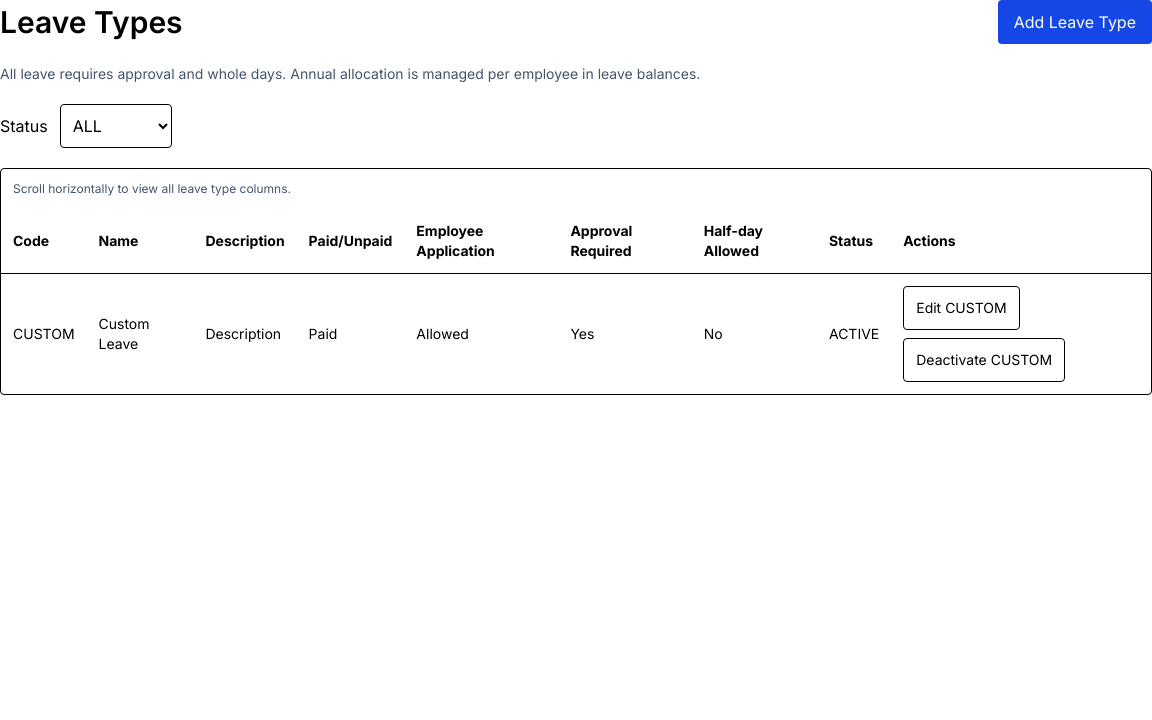
Test: Phase 12 leave types › creates normalized fields and fixed policies, invalidating lists/previews
The width and height of the screenshot is (1152, 720).
Click the button "Add Leave Type".
click(1075, 22)  # box [998,0,1151,44]
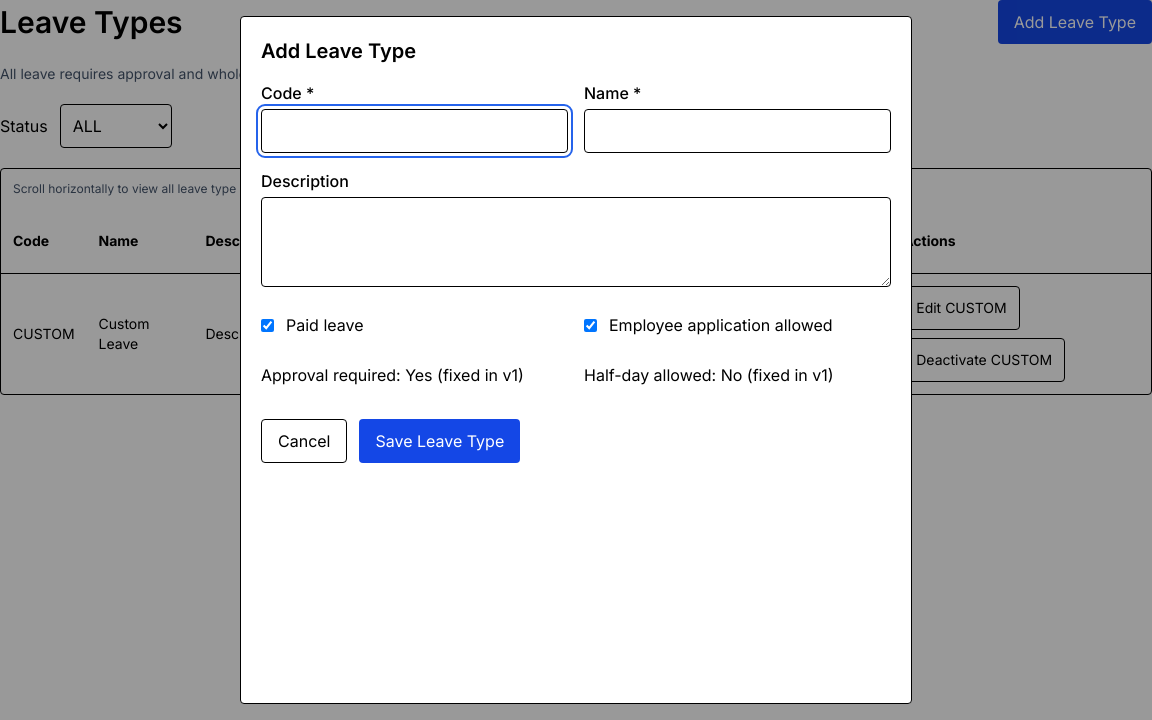
Type " new_12 " into the field labelled "Code *".
click(414, 131); type(" new_12 ")  # box [261,109,568,153]
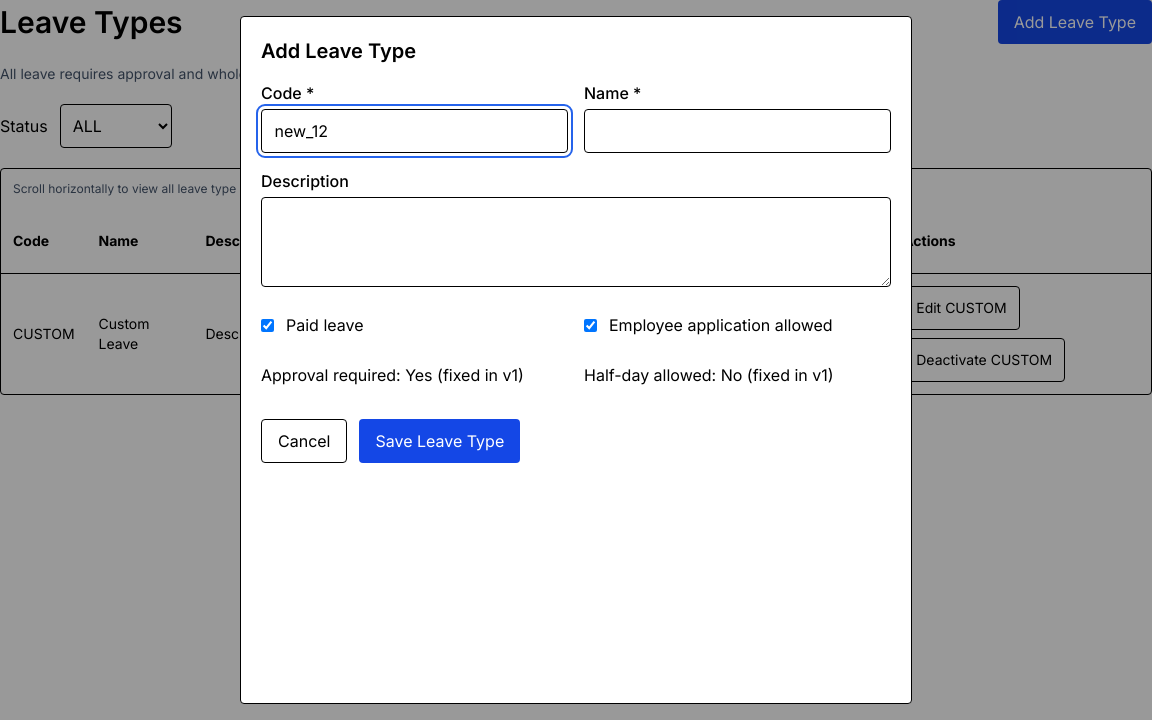
Type " New Type " into the field labelled "Name *".
click(738, 131); type(" New Type ")  # box [584,109,891,153]
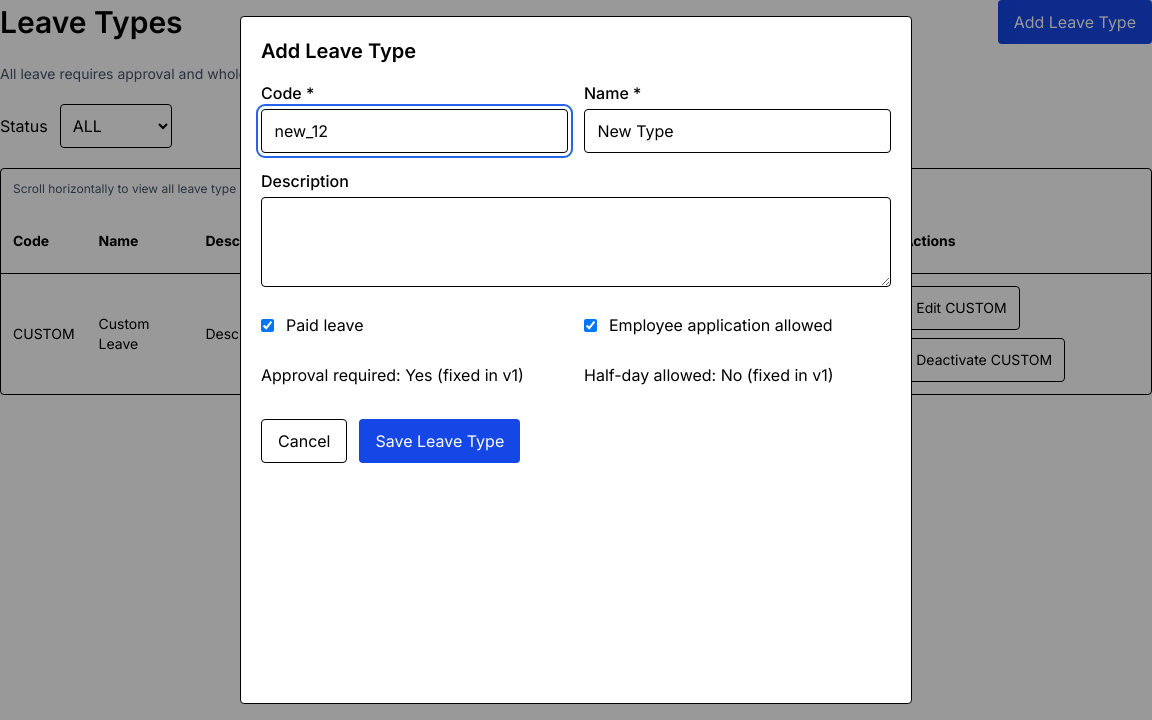
Click the switch labelled "Paid leave".
click(268, 325)  # box [261,318,274,332]
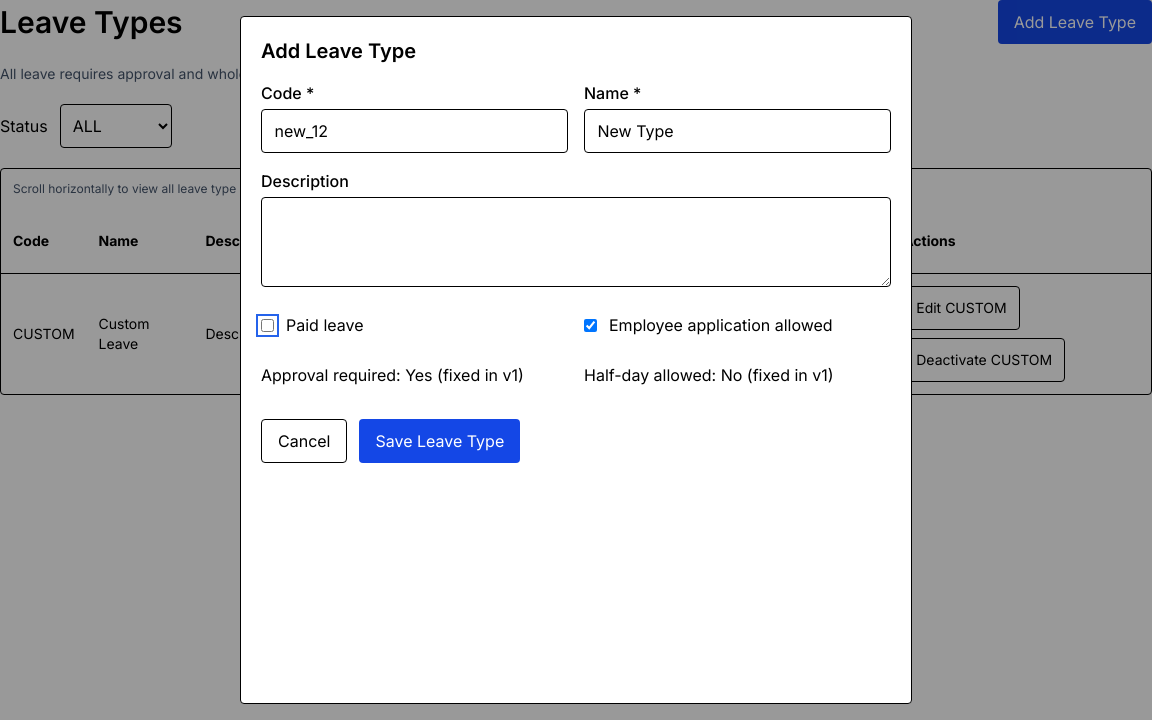
Click the switch labelled "Employee application allowed".
click(590, 325)  # box [584,318,597,332]
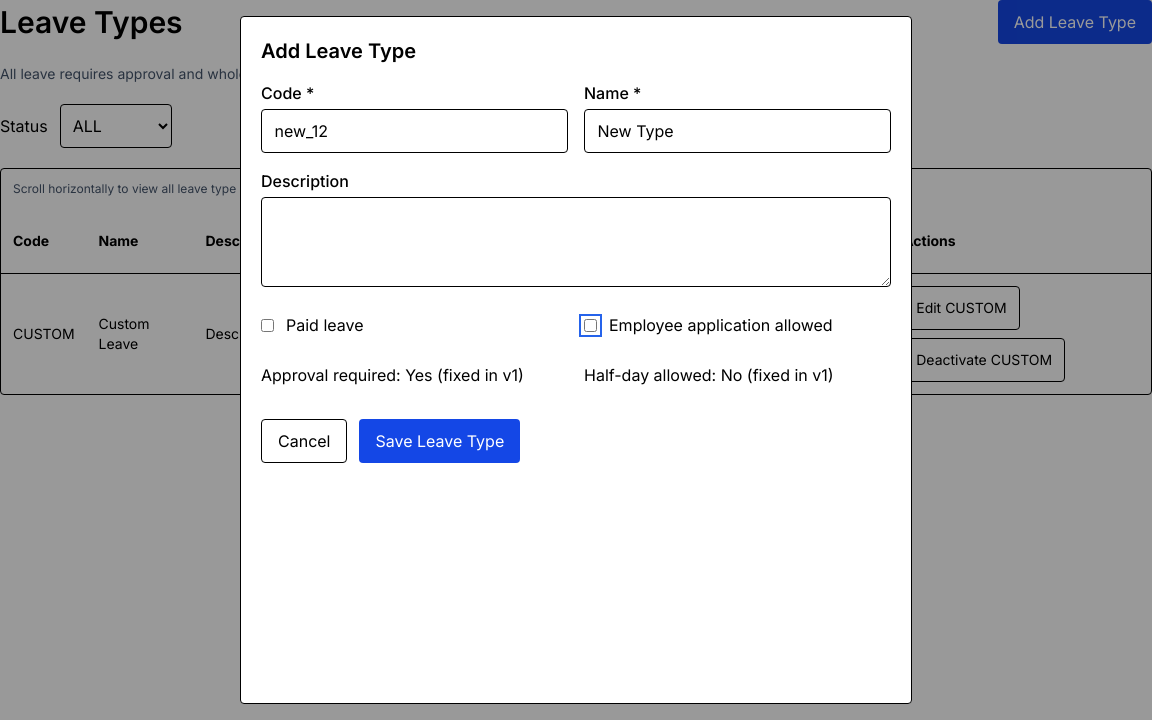
Click the button "Save Leave Type".
click(440, 441)  # box [360,419,520,463]
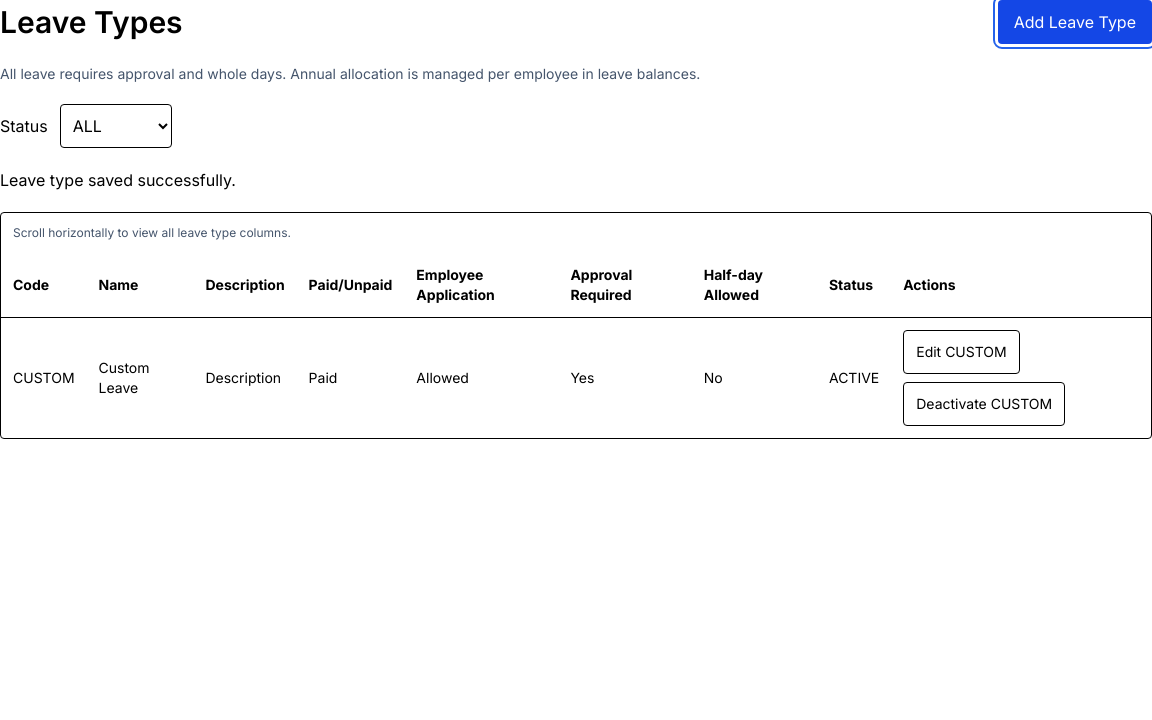
Check: the text "Leave type saved successfully." is shown, box [0,170,236,190]
